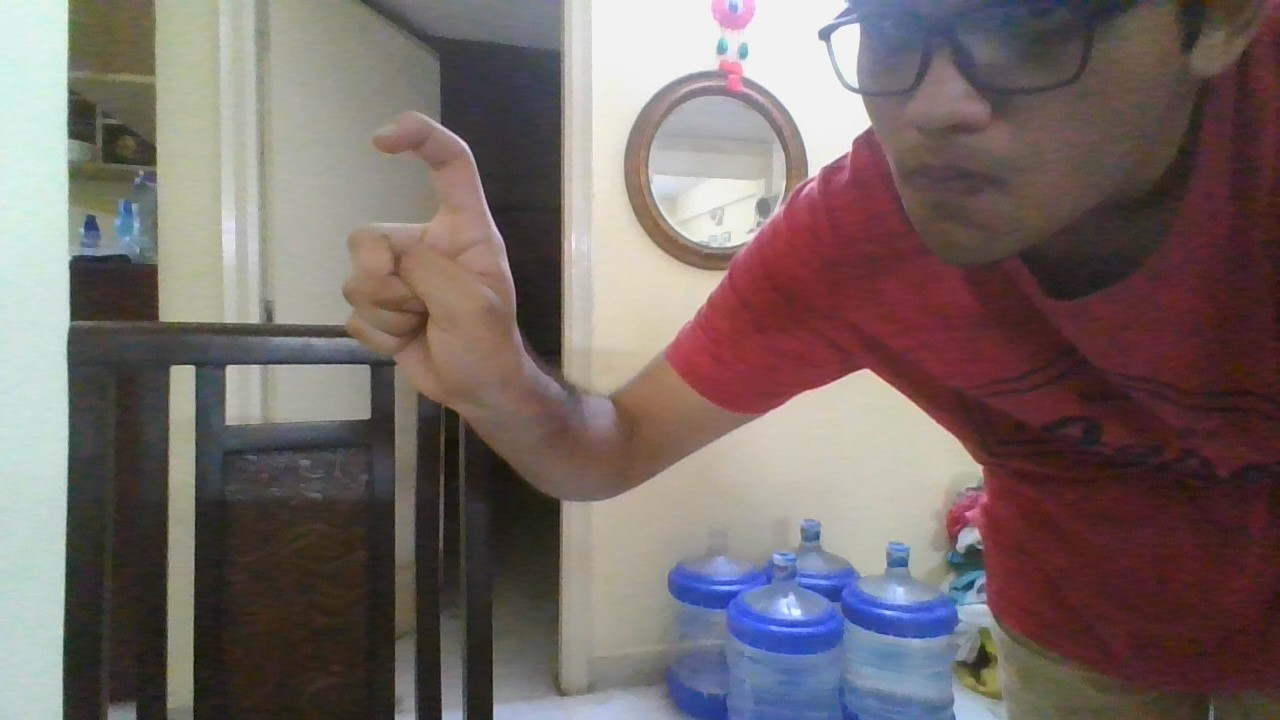x: (340, 109, 524, 409)
